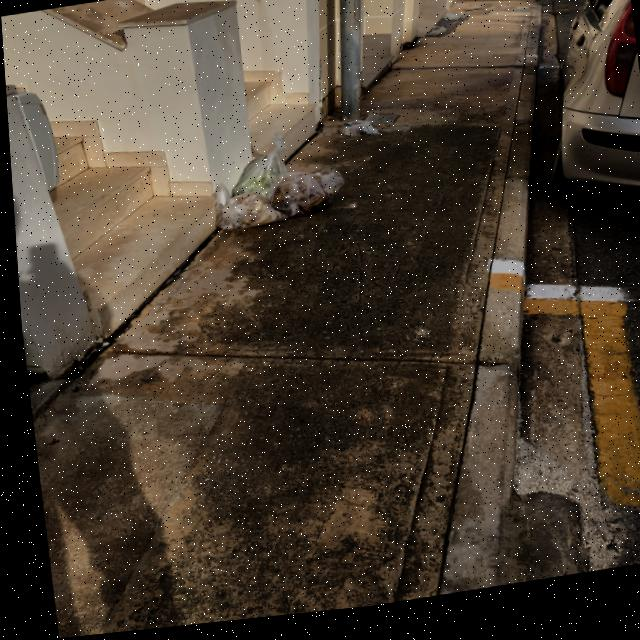Organic Waste -White Bag-: (205, 150, 343, 242)
